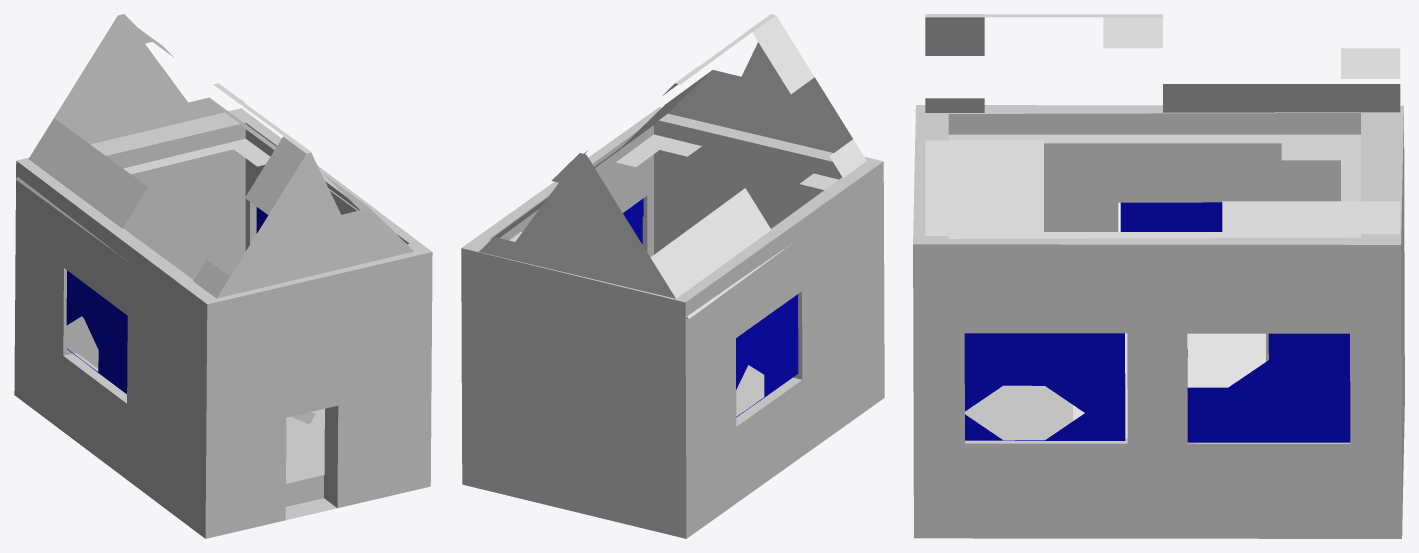
The model's file is house_broken.dae.
3 renders of one model, left to right at view 1: azimuth 30°, elevation 25°; view 2: azimuth 150°, elevation 25°; view 3: azimuth 270°, elevation 25°, orthographic. The views are drawn at different scales.
Visible parts, largest first — view 1: Haus_001, Cube_001, Cube_001_001; view 2: Haus_001, Cube_001, Cube_001_001, Cube_002_001; view 3: Haus_001, Cube_001, Cube_000_001, Cube_002_001, Cube, Cube_001_001.
Part boxes in pixels (x1,y1,x2,y2): Haus_001: [14, 108, 432, 538]; Cube_001: [16, 14, 413, 298]; Cube_001_001: [66, 270, 127, 393]; Haus_001: [461, 107, 884, 538]; Cube_001: [479, 14, 866, 319]; Cube_001_001: [736, 294, 798, 417]; Cube_002_001: [623, 198, 643, 244]; Haus_001: [913, 105, 1404, 538]; Cube_001: [925, 14, 1400, 238]; Cube_000_001: [1187, 333, 1350, 442]; Cube_002_001: [964, 333, 1125, 440]; Cube: [1073, 333, 1265, 437]; Cube_001_001: [1120, 202, 1222, 231].
Bounding box in the file's own units: 3.44 × 5.1 × 5.16.
